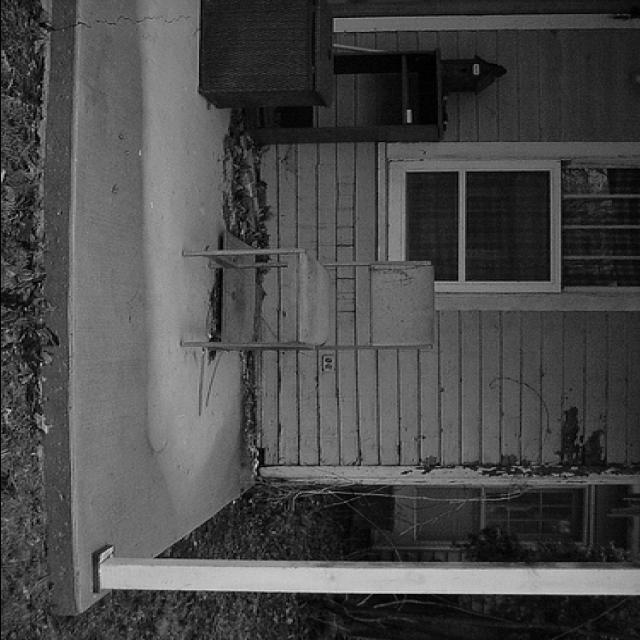chair: (177, 245, 433, 354)
